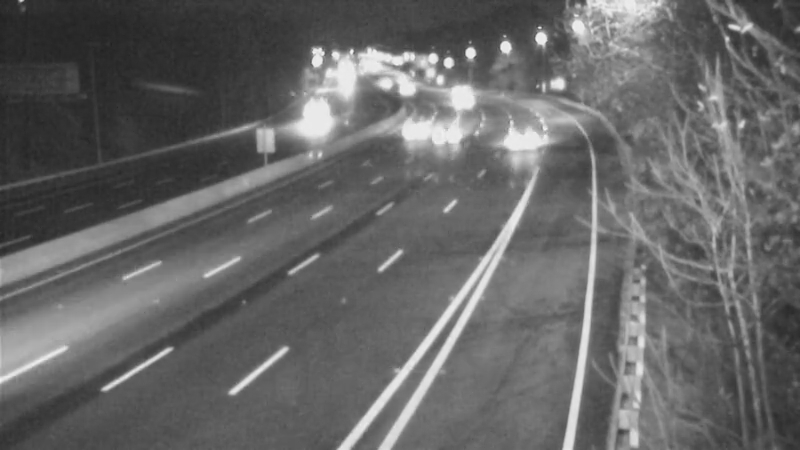vehicle: (432, 77, 482, 127), (392, 93, 442, 143), (417, 108, 467, 158), (486, 112, 536, 162), (283, 95, 333, 145)
